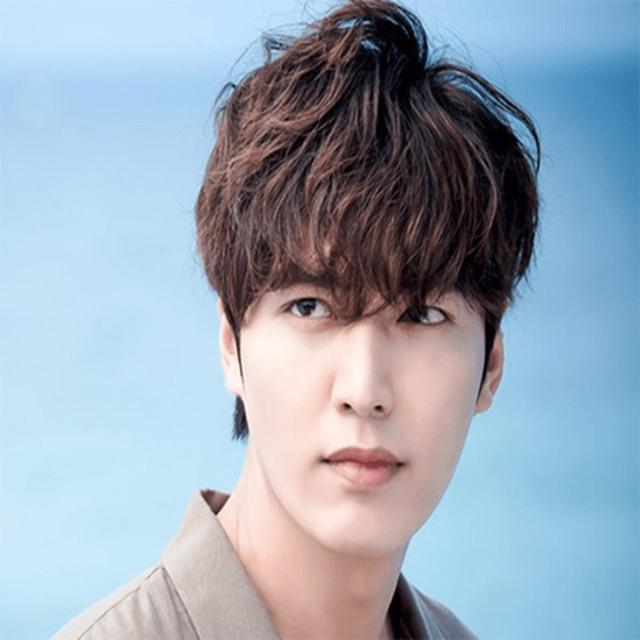Nonhelmet: (184, 0, 552, 573)
